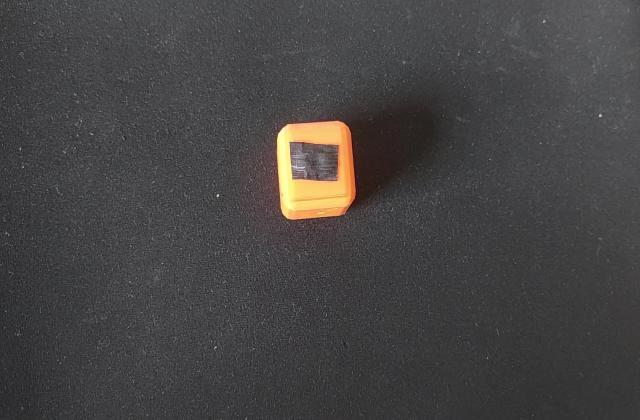black: (284, 137, 346, 187)
sticker: (270, 118, 360, 224)
